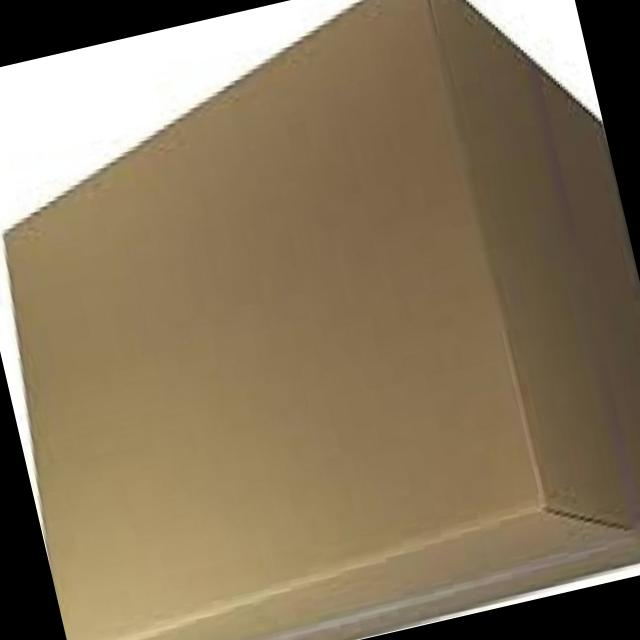cardboard paper: (7, 0, 640, 640)
